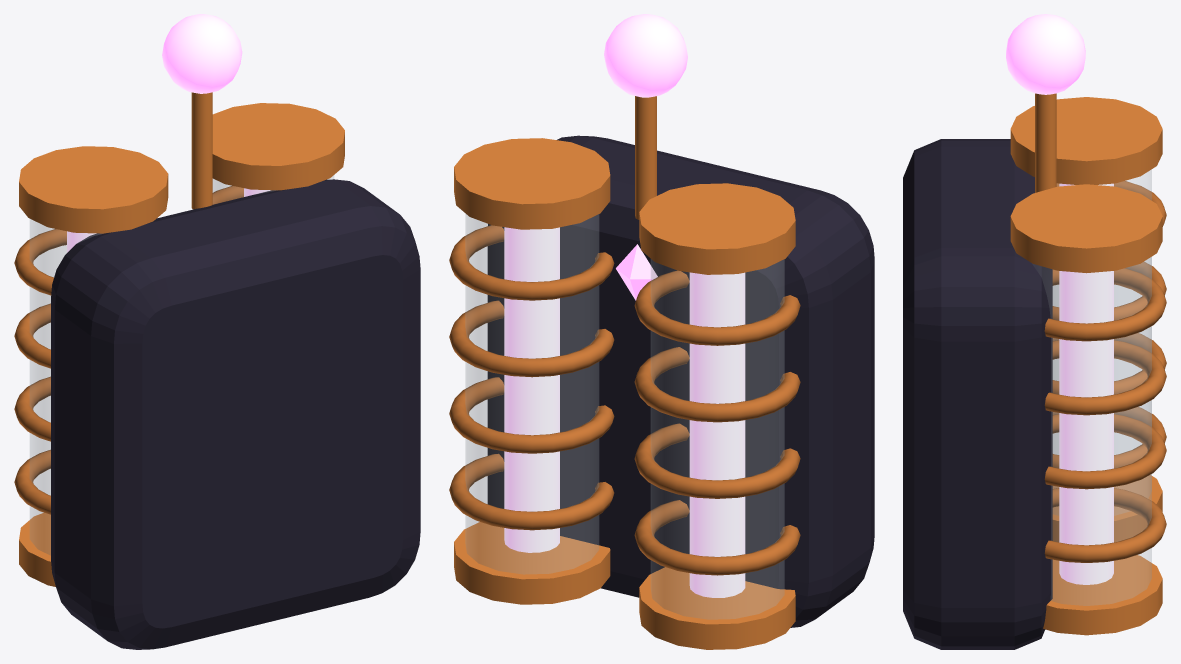
The model's file is back_eqgw3.glb.
3 renders of one model, left to right at view 1: azimuth 30°, elevation 25°; view 2: azimuth 150°, elevation 25°; view 3: azimuth 270°, elevation 25°, orthographic. The views are drawn at different scales.
Bounding box in the file's own units: 1.4 × 2.33 × 0.97.
